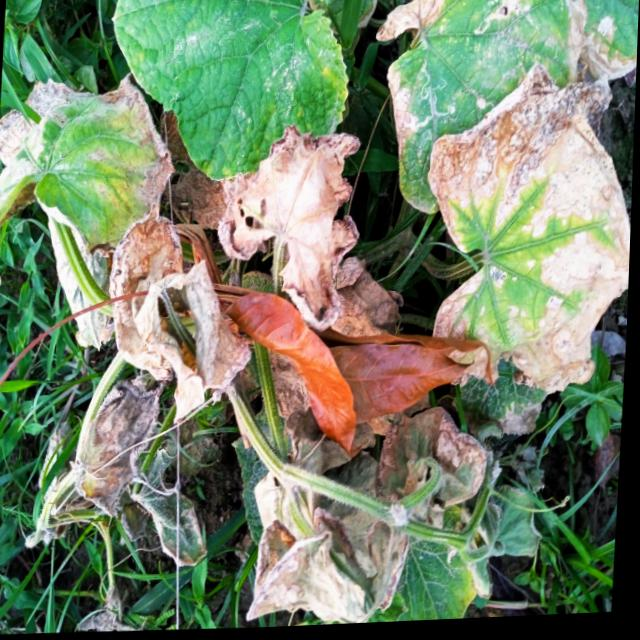Anthracnose: (254, 411, 411, 627), (136, 439, 213, 571)
Bacterial-Wilt: (218, 124, 407, 340), (72, 374, 169, 519), (383, 413, 486, 530)
